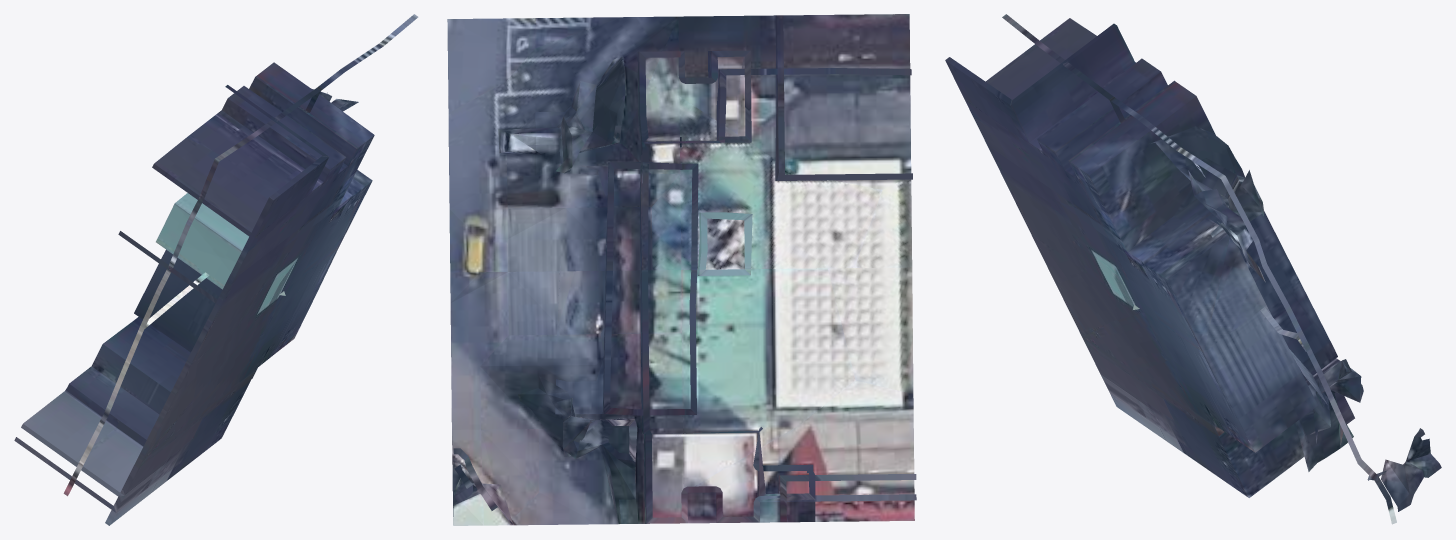
The picture shows the model from 3 angles, left to right: view 1: azimuth 30°, elevation 25°; view 2: azimuth 150°, elevation 25°; view 3: azimuth 270°, elevation 25°; orthographic projection. The views are drawn at different scales.
Bounding box in the file's own units: 40.41 × 39.32 × 39.7.
2 materials, 2 textured.
